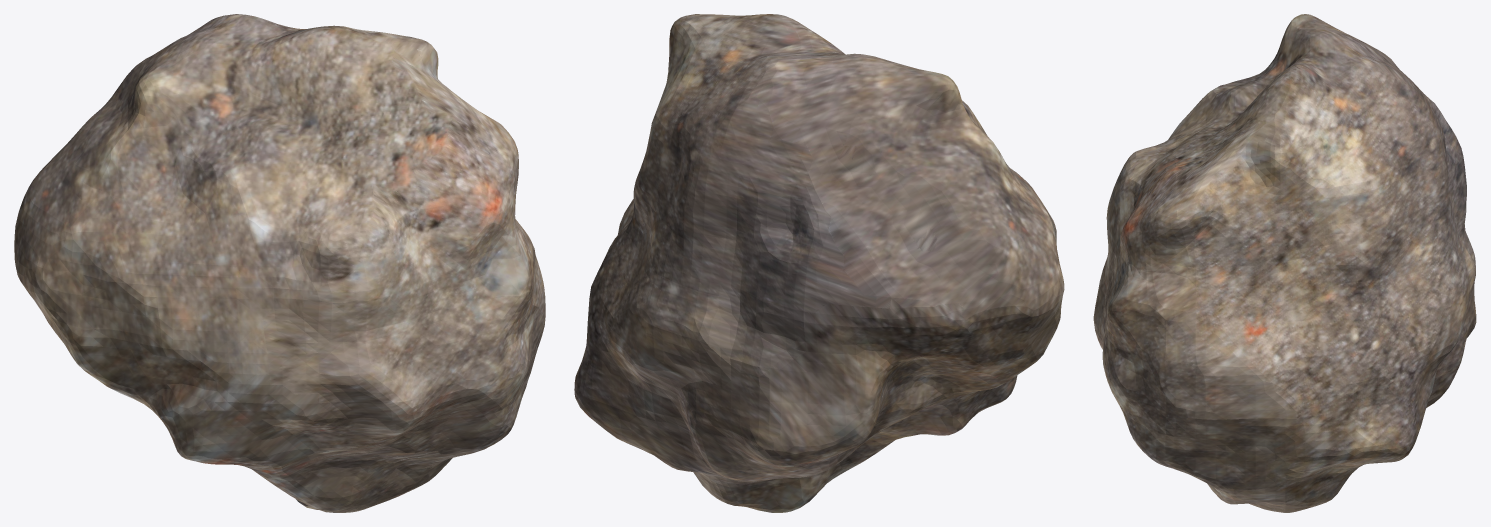
File: rock4.obj
The picture shows the model from 3 angles, left to right: view 1: azimuth 30°, elevation 25°; view 2: azimuth 150°, elevation 25°; view 3: azimuth 270°, elevation 25°; orthographic projection. The views are drawn at different scales.
Bounding box in the file's own units: 45.68 × 46.51 × 37.65.
Materials: 1 (1 with a texture image).
